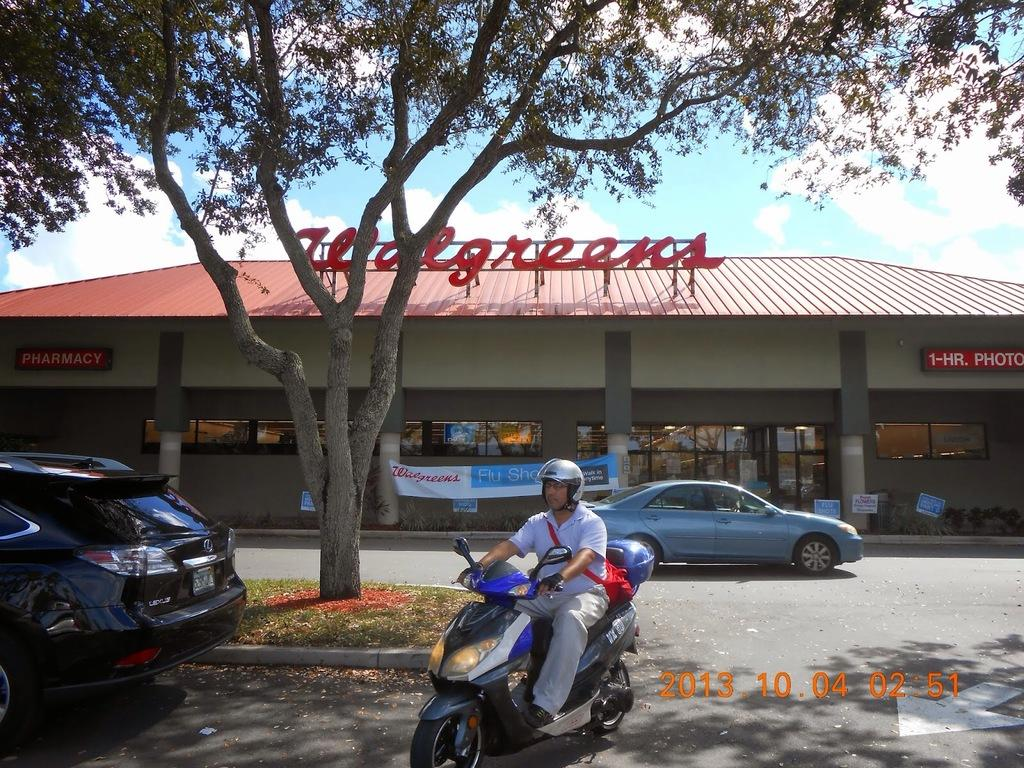vehicle: (0, 451, 248, 756), (569, 480, 863, 577)
